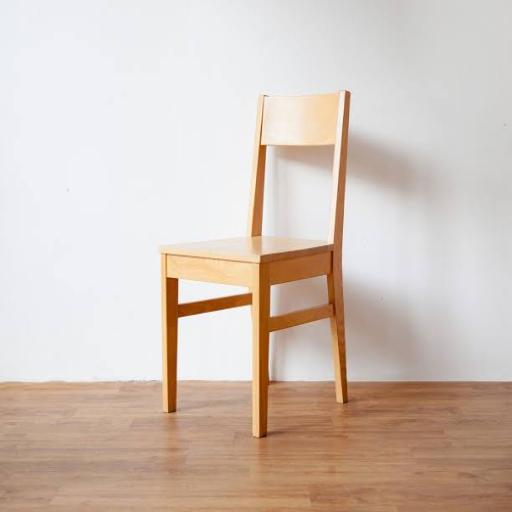kursi: (158, 87, 353, 439)
